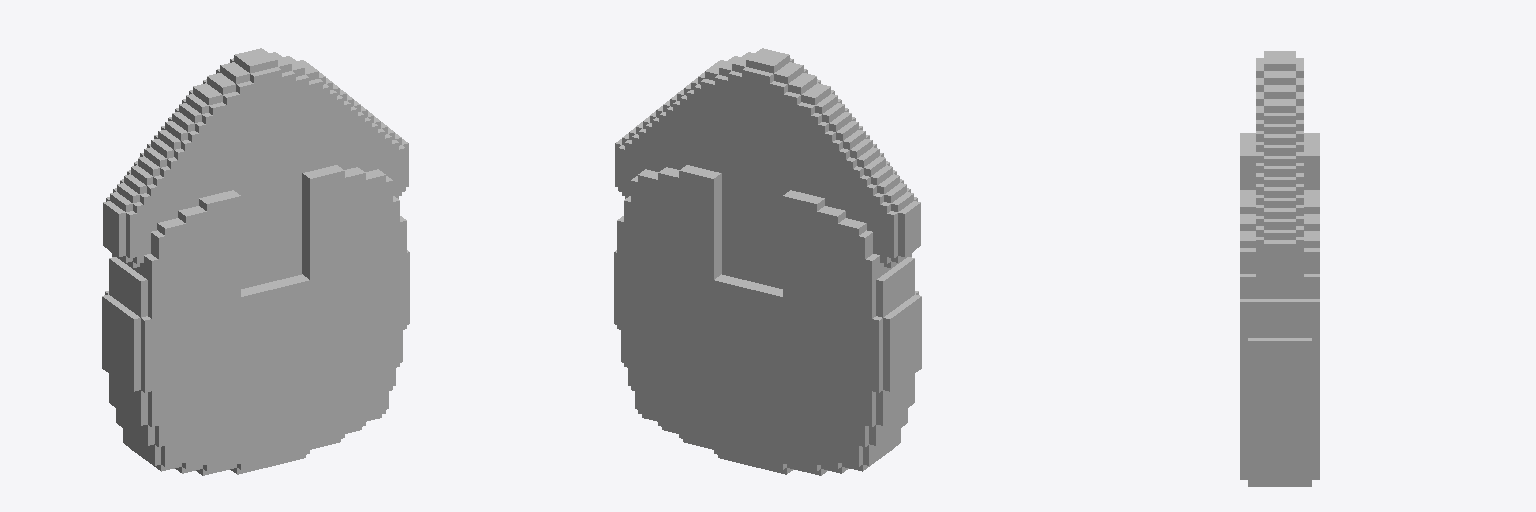
The model's file is hopefully finally got it to work.obj.
The picture shows the model from 3 angles: view 1: azimuth 30°, elevation 25°; view 2: azimuth 150°, elevation 25°; view 3: azimuth 270°, elevation 25°; orthographic projection.
Parts seen in each view (by area): view 1: object 1; view 2: object 1; view 3: object 1.
Boxes of the visible parts, box(x1,y1,x2,y2) form: object 1: box(102, 48, 409, 475); object 1: box(614, 48, 921, 475); object 1: box(1240, 51, 1319, 486).
Size of the model in its own units: 4.2 by 5.5 by 1.